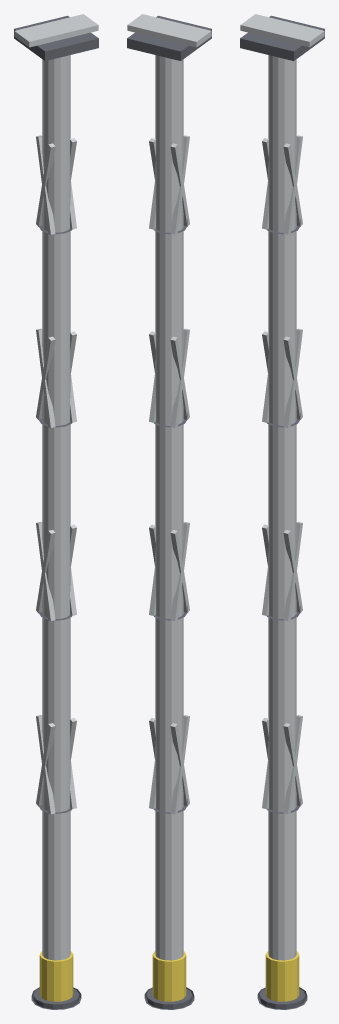
Rendered from theme-park-rides-and-coasters-theme-park-rides-and-coa-d8436d35__28637.glb.
3 renders of one model, left to right at view 1: azimuth 30°, elevation 25°; view 2: azimuth 150°, elevation 25°; view 3: azimuth 330°, elevation 25°, orthographic.
Visible parts, largest first — view 1: theme-park-rides-and-coasters-support-column-12m; view 2: theme-park-rides-and-coasters-support-column-12m; view 3: theme-park-rides-and-coasters-support-column-12m.
Part boxes in pixels (x1=…): theme-park-rides-and-coasters-support-column-12m: x1=14, y1=14, x2=98, y2=1009; theme-park-rides-and-coasters-support-column-12m: x1=127, y1=14, x2=211, y2=1009; theme-park-rides-and-coasters-support-column-12m: x1=240, y1=14, x2=324, y2=1009.
Bounding box in the file's own units: 0.9002 × 12.07 × 0.7002.
